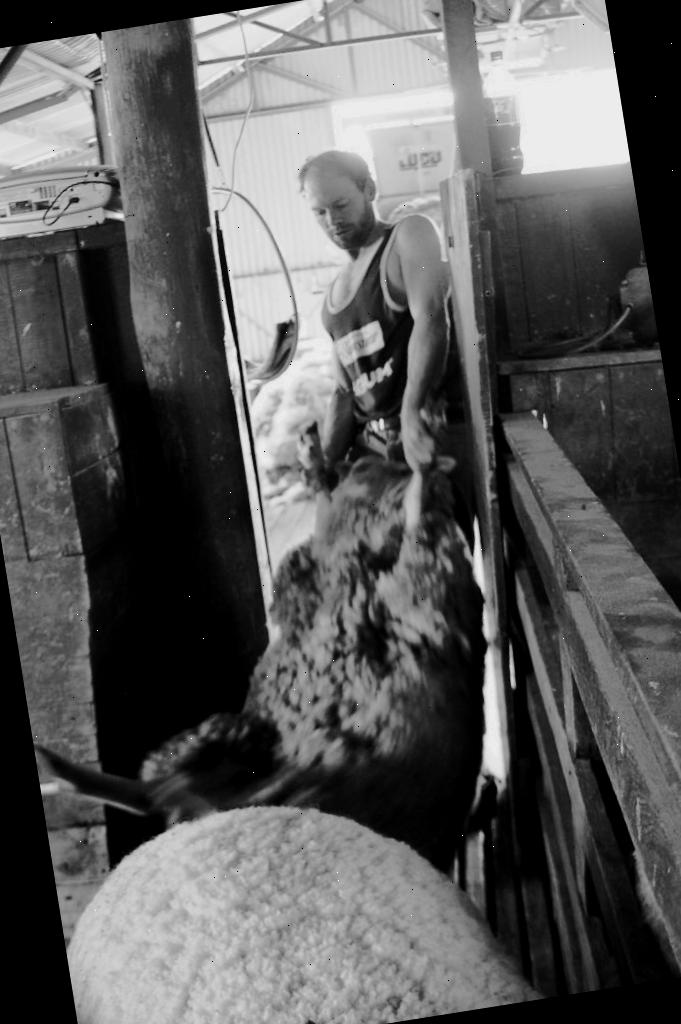Sheep: (0, 406, 513, 923), (48, 773, 533, 1024)
